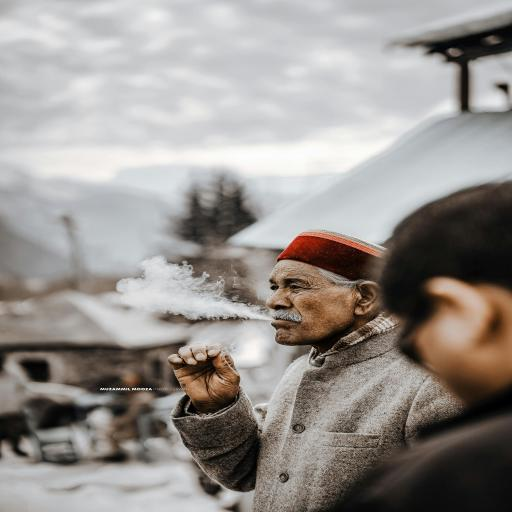asap rokok: (226, 255, 327, 343)
